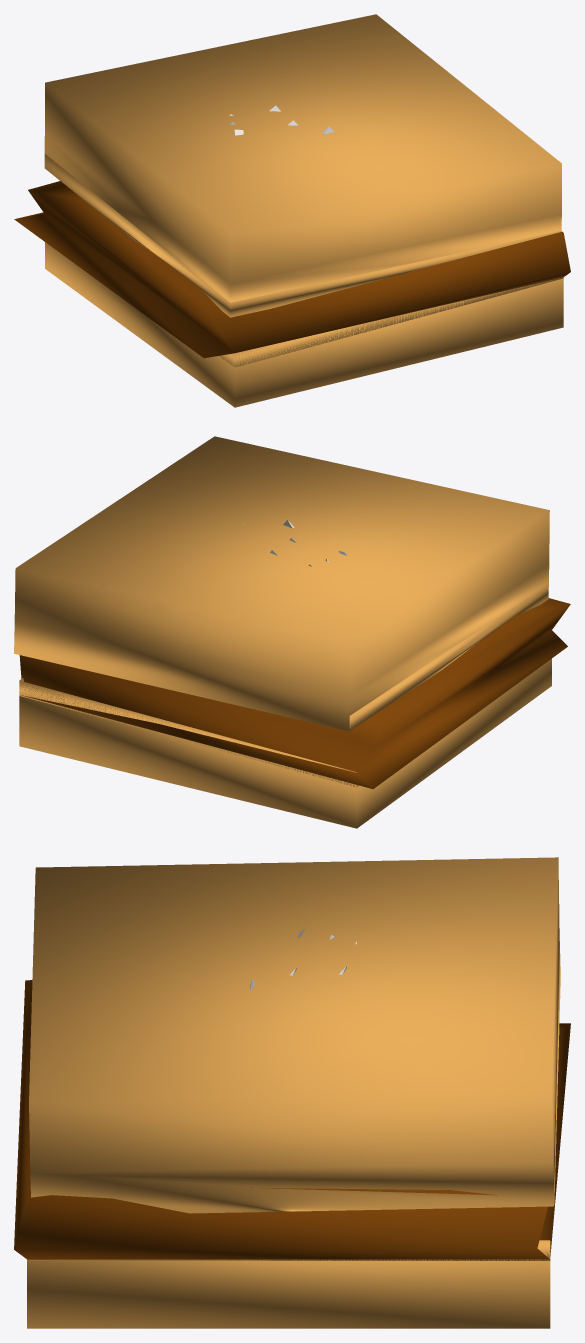
Rendered from hamburger.glb.
3 views of the same model, one above another, from view 1: azimuth 30°, elevation 25°; view 2: azimuth 150°, elevation 25°; view 3: azimuth 270°, elevation 25° (orthographic). The views are drawn at different scales.
Visible parts, largest first — view 1: bun-top, meat, bun-bottom; view 2: bun-top, meat, bun-bottom; view 3: bun-top, bun-bottom, meat.
Part boxes in pixels (<box>): bun-top: <box>44,14,561,317</box>; meat: <box>14,181,570,358</box>; bun-bottom: <box>45,242,563,407</box>; bun-top: <box>14,436,549,731</box>; meat: <box>19,598,570,788</box>; bun-bottom: <box>19,658,551,828</box>; bun-top: <box>29,857,560,1213</box>; bun-bottom: <box>27,1240,550,1328</box>; meat: <box>14,980,570,1259</box>.
Bounding box in the file's own units: 10.9 × 5.32 × 10.65.
